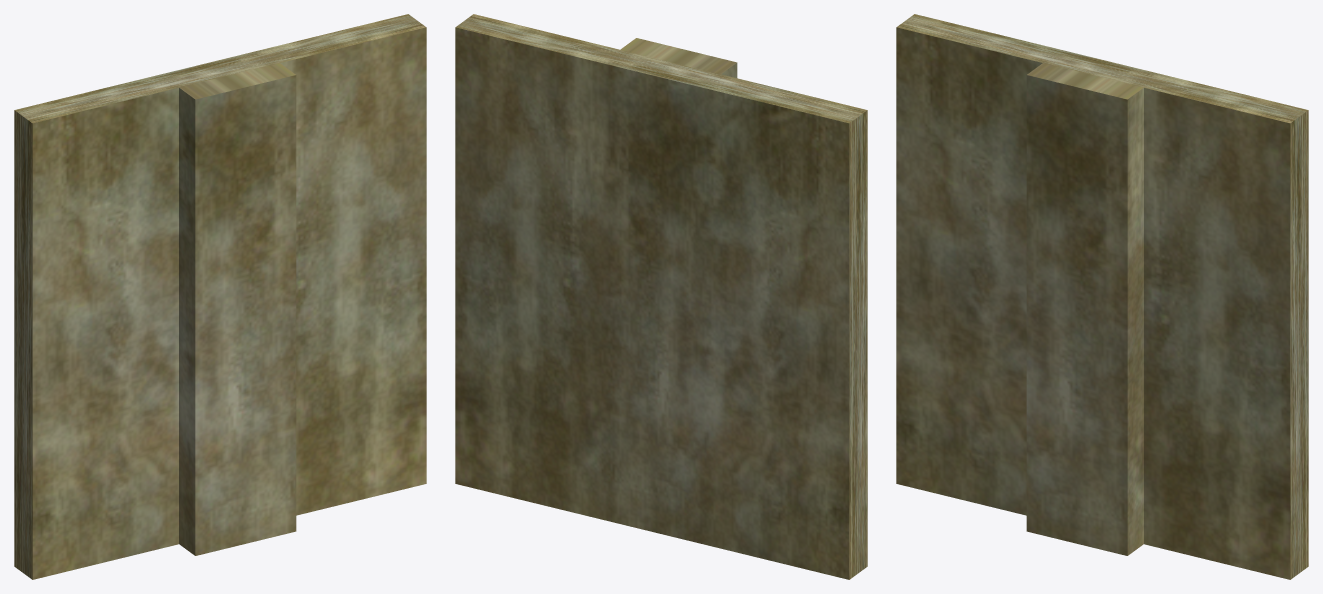
The model's file is WallSmall.fbx.
3 renders of one model, left to right at view 1: azimuth 30°, elevation 25°; view 2: azimuth 150°, elevation 25°; view 3: azimuth 330°, elevation 25°, orthographic.
Visible parts, largest first — view 1: WallEmpty; view 2: WallEmpty; view 3: WallEmpty.
Boxes of the visible parts, x1,y1,x2,y2 form: WallEmpty: (14, 14, 426, 579); WallEmpty: (455, 14, 867, 579); WallEmpty: (896, 14, 1308, 579).
Bounding box in the file's own units: 250 × 277 × 37.89.
